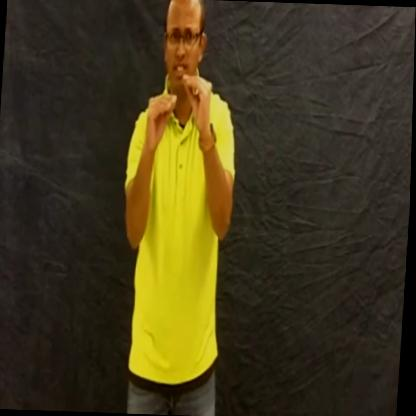Fix: (134, 52, 215, 150)
